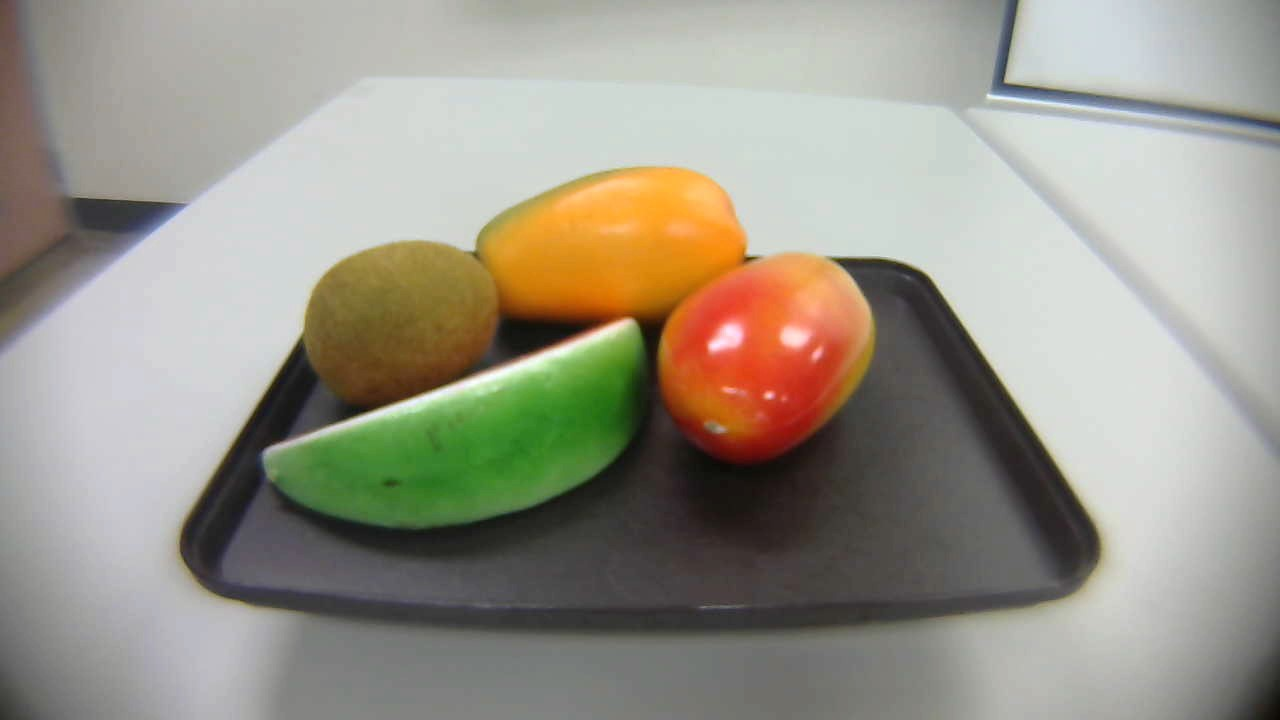kiwi fruit: (305, 242, 497, 400)
papya: (480, 163, 751, 321)
red mango: (655, 248, 875, 468)
water melon: (255, 316, 649, 535)
